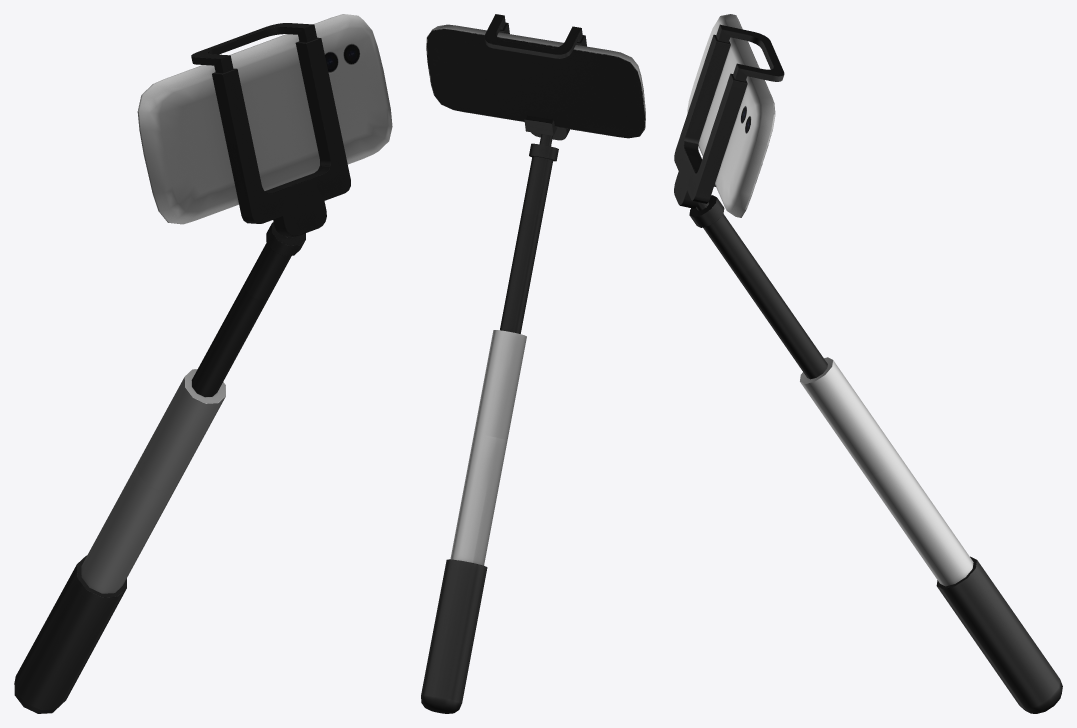
The model's file is SelfieStick.fbx.
3 renders of one model, left to right at view 1: azimuth 30°, elevation 25°; view 2: azimuth 150°, elevation 25°; view 3: azimuth 270°, elevation 25°, orthographic. The views are drawn at different scales.
Parts seen in each view (by area): view 1: Mobile_with_selfie_stick; view 2: Mobile_with_selfie_stick; view 3: Mobile_with_selfie_stick.
Boxes of the visible parts, x1,y1,x2,y2 form: Mobile_with_selfie_stick: (14, 14, 392, 713); Mobile_with_selfie_stick: (421, 14, 645, 713); Mobile_with_selfie_stick: (674, 14, 1062, 713).
Size of the model in its own units: 17.31 by 49.33 by 25.36.
